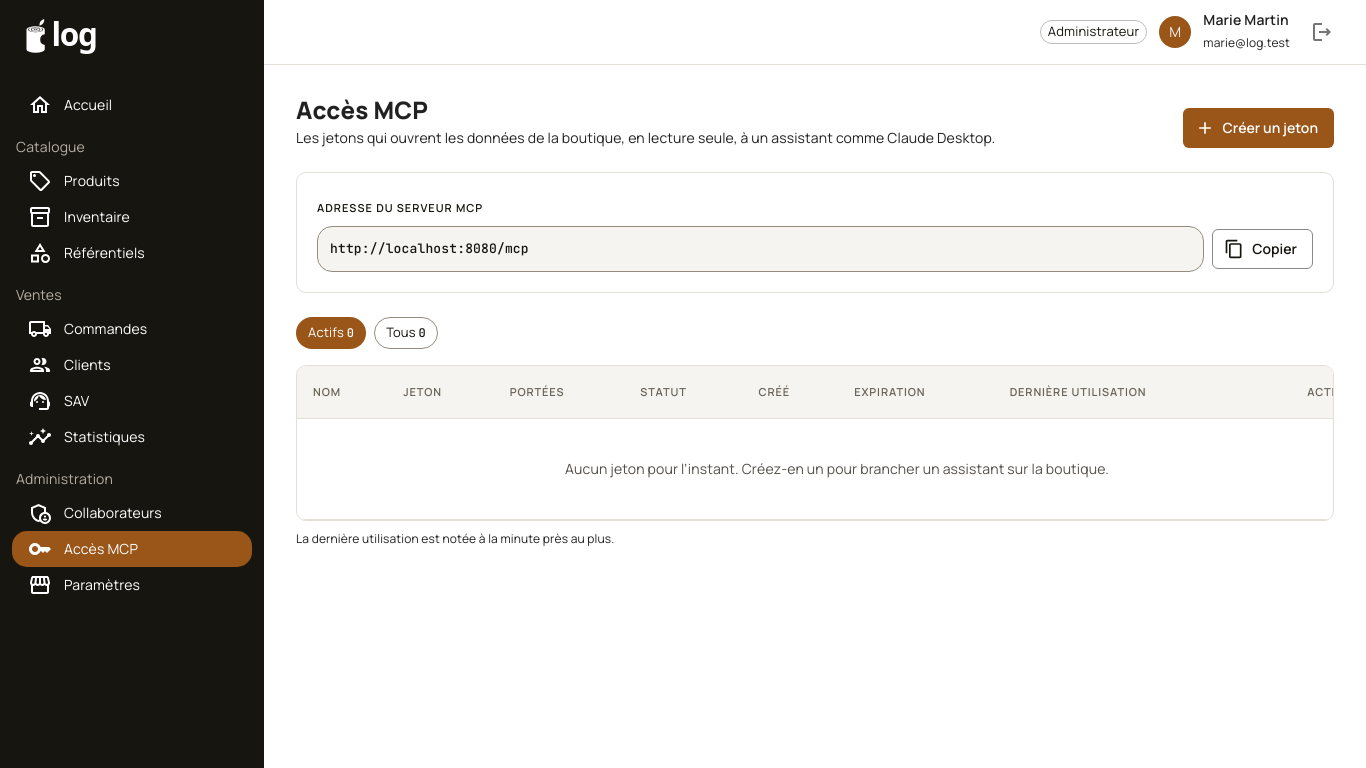
the MCP panel (M04) › creates a token and shows it once, in a dialog that only its button closes
The image size is (1366, 768).
Click the button "Créer un jeton" at coordinates (1258, 128), box [1182,108,1334,148]
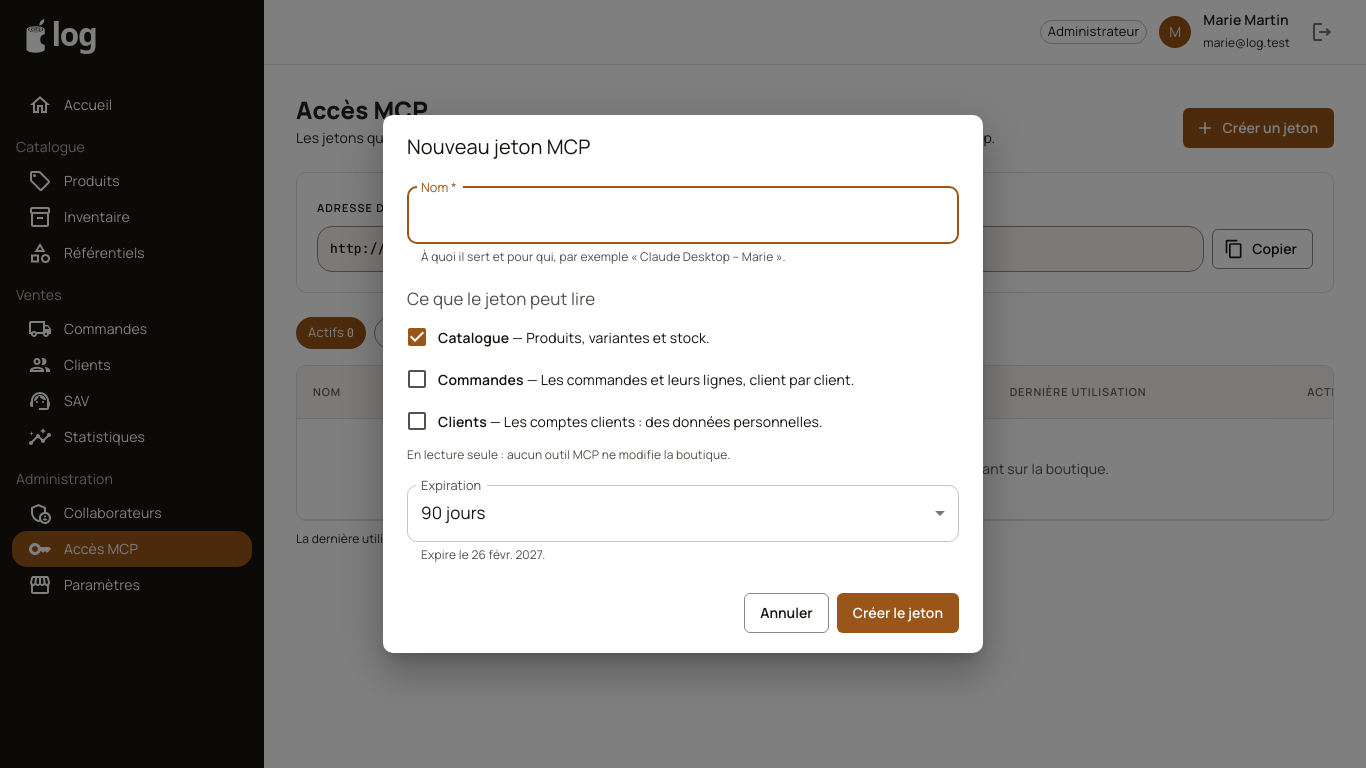
Type " Inspector " into the field labelled "Nom" at coordinates (683, 216), box [407,187,959,244]
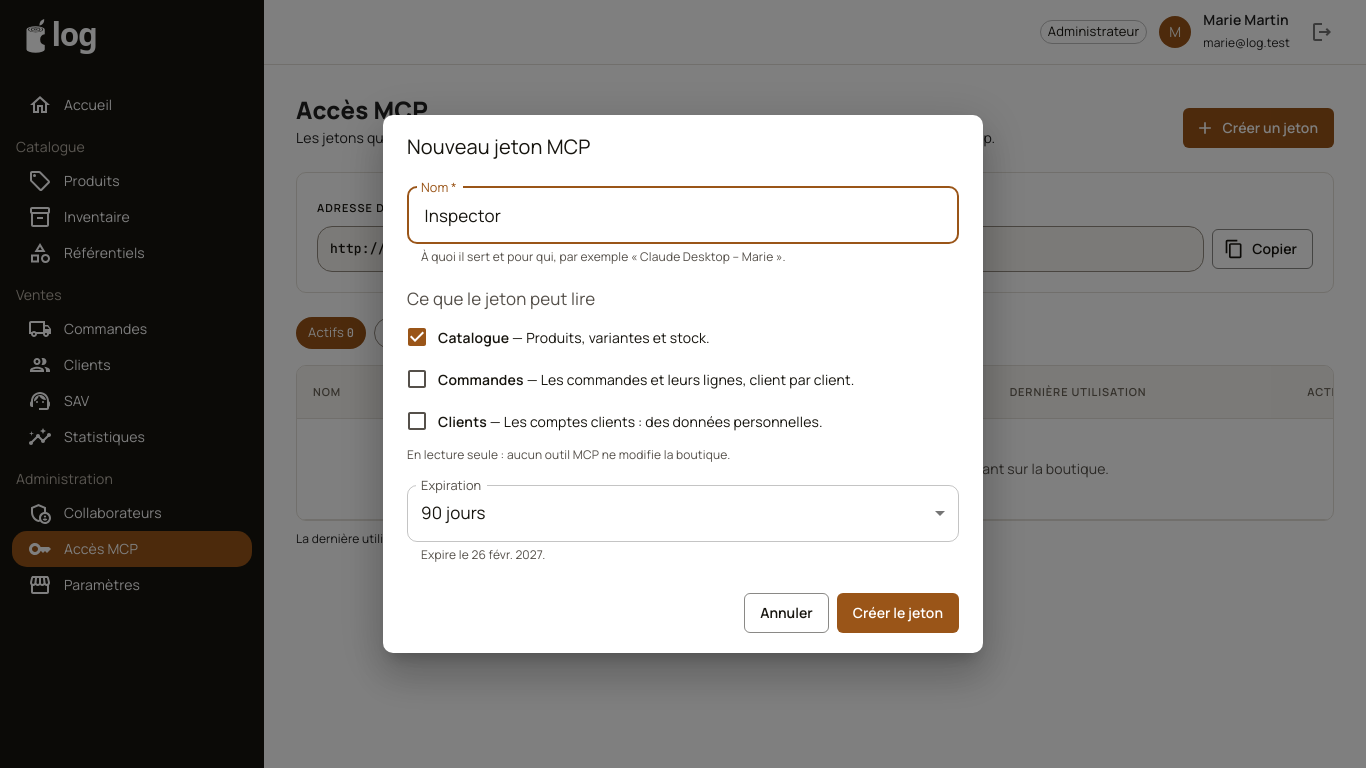
Coches dans le desordre : la demande garde l'ordre du formulaire.
Click the checkbox labelled "Clients — Les comptes clients : des données personnelles." at coordinates (614, 421), box [405,409,823,433]
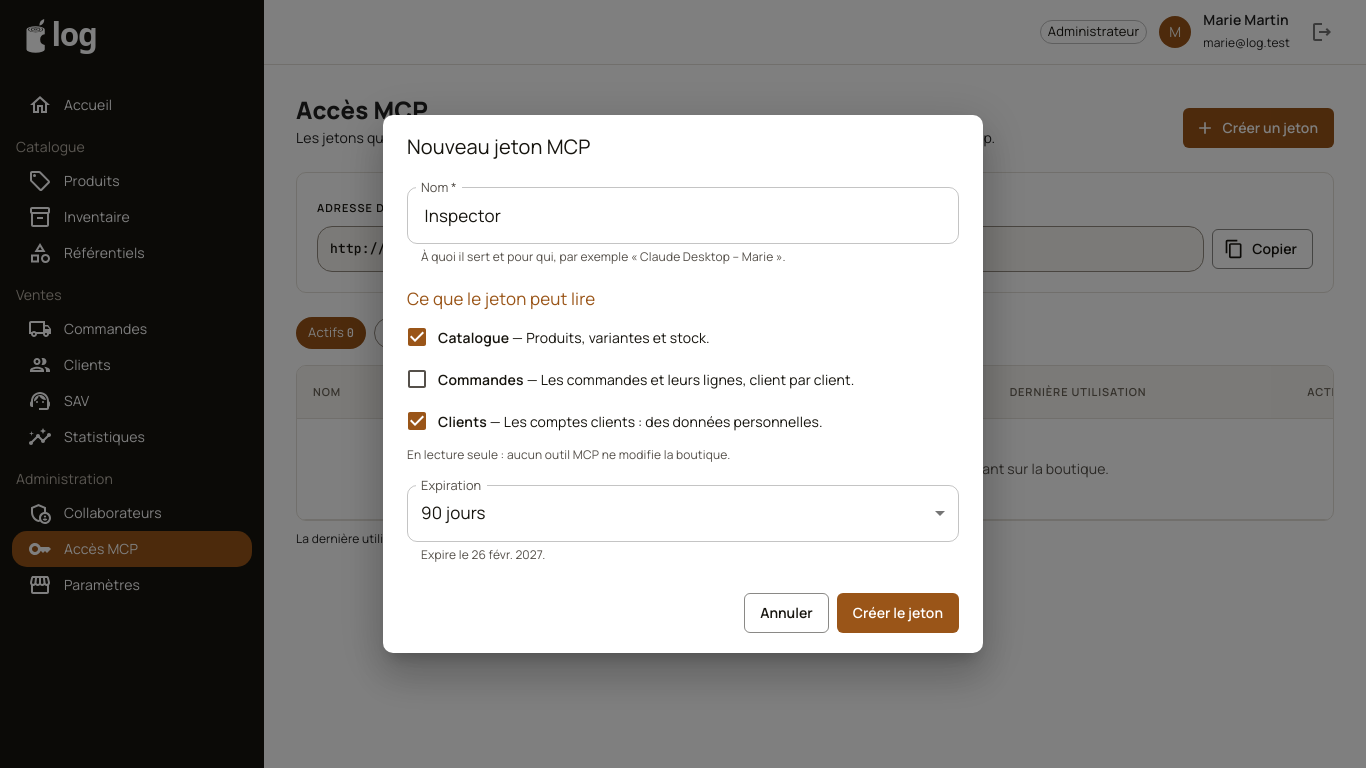
Click the checkbox labelled "Commandes" at coordinates (630, 379), box [405,367,854,391]
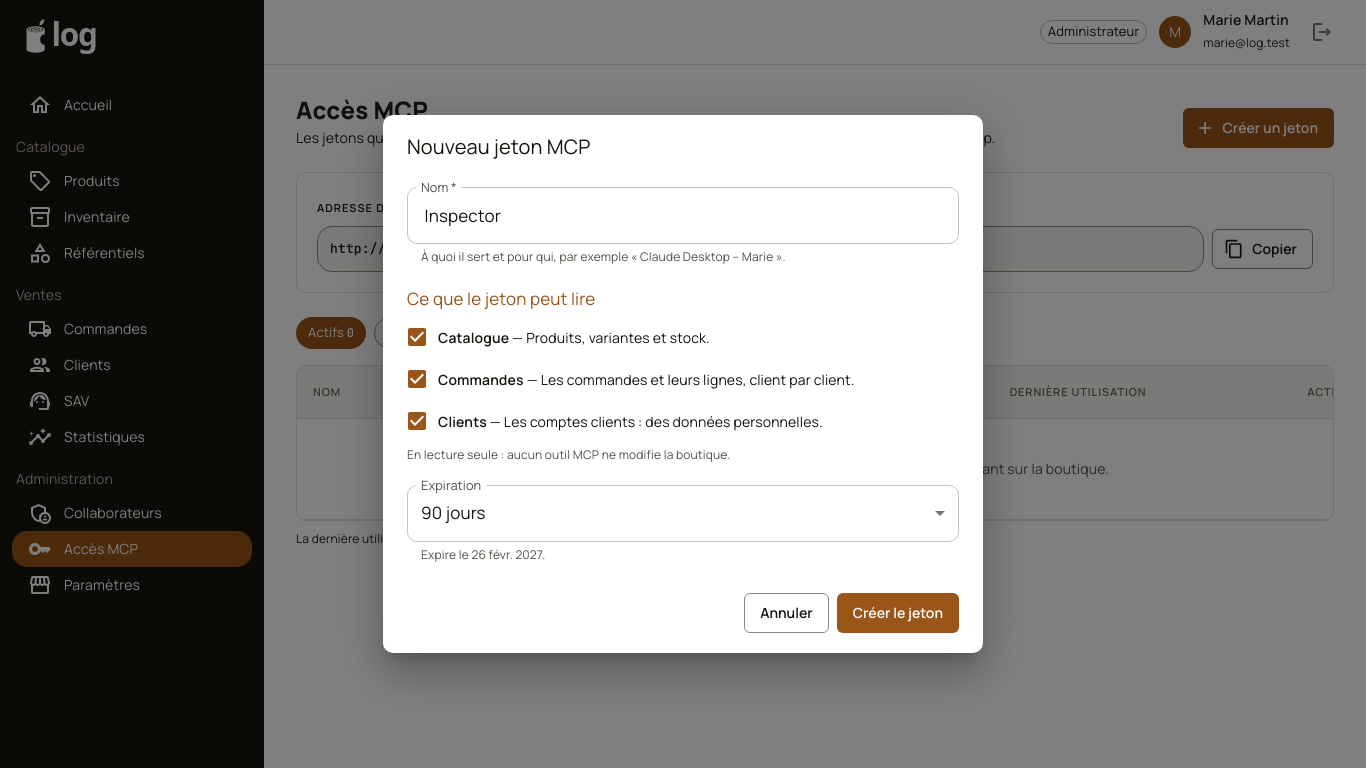
Click the button "Créer le jeton" at coordinates (898, 613), box [837,593,959,633]
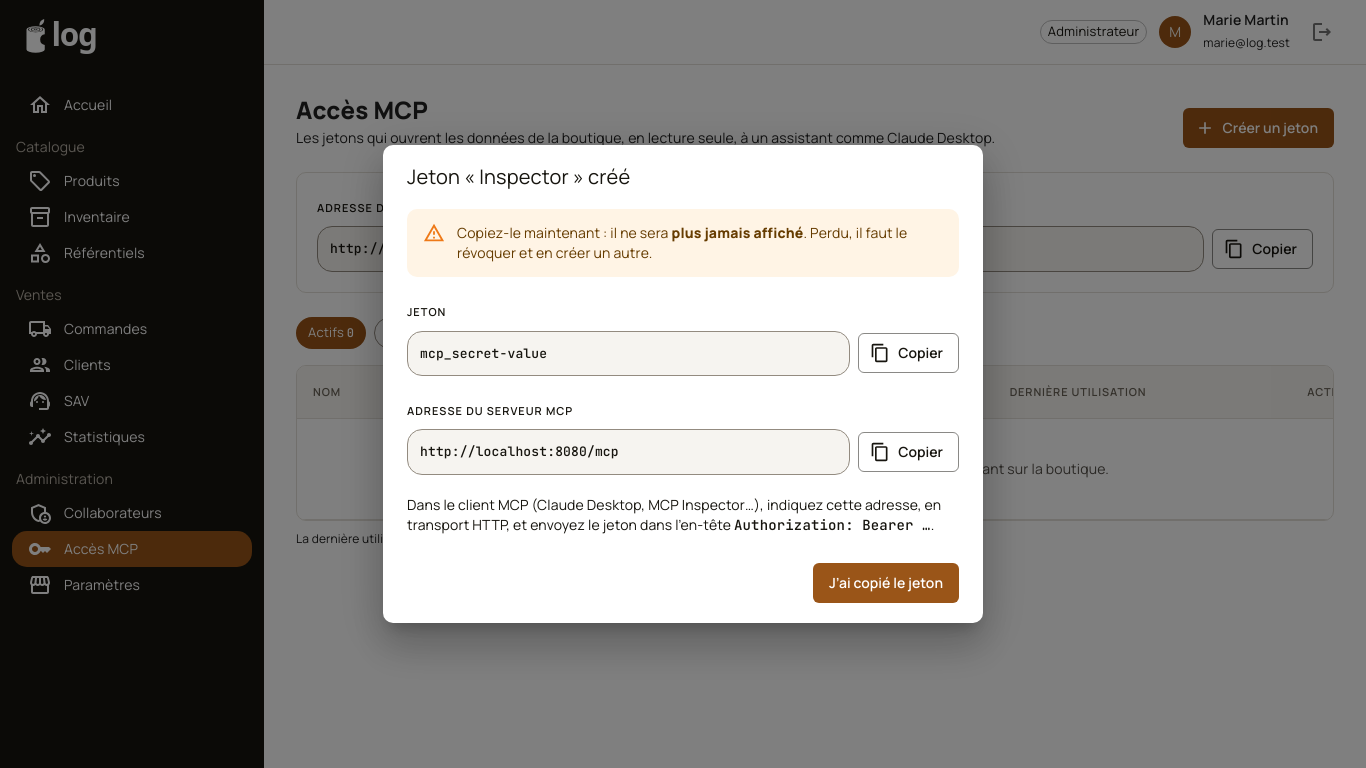
Result: the text "mcp_secret-value" is shown at [407,330,850,376]
Press Escape
Result: the dialog "Jeton « Inspector » créé" is shown at [383,145,983,623]
Click the button "J’ai copié le jeton" at coordinates (886, 583), box [813,563,959,603]
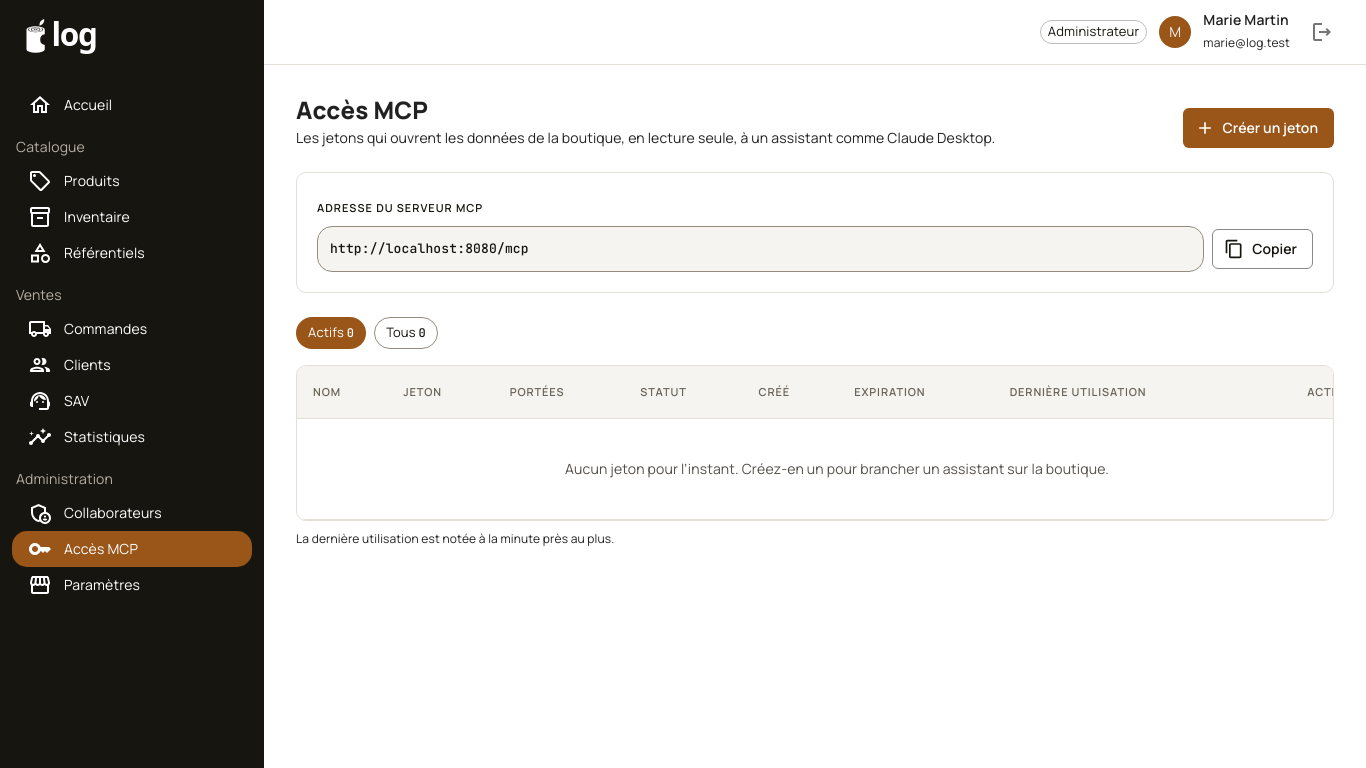
Result: the text "mcp_secret-value" is gone
